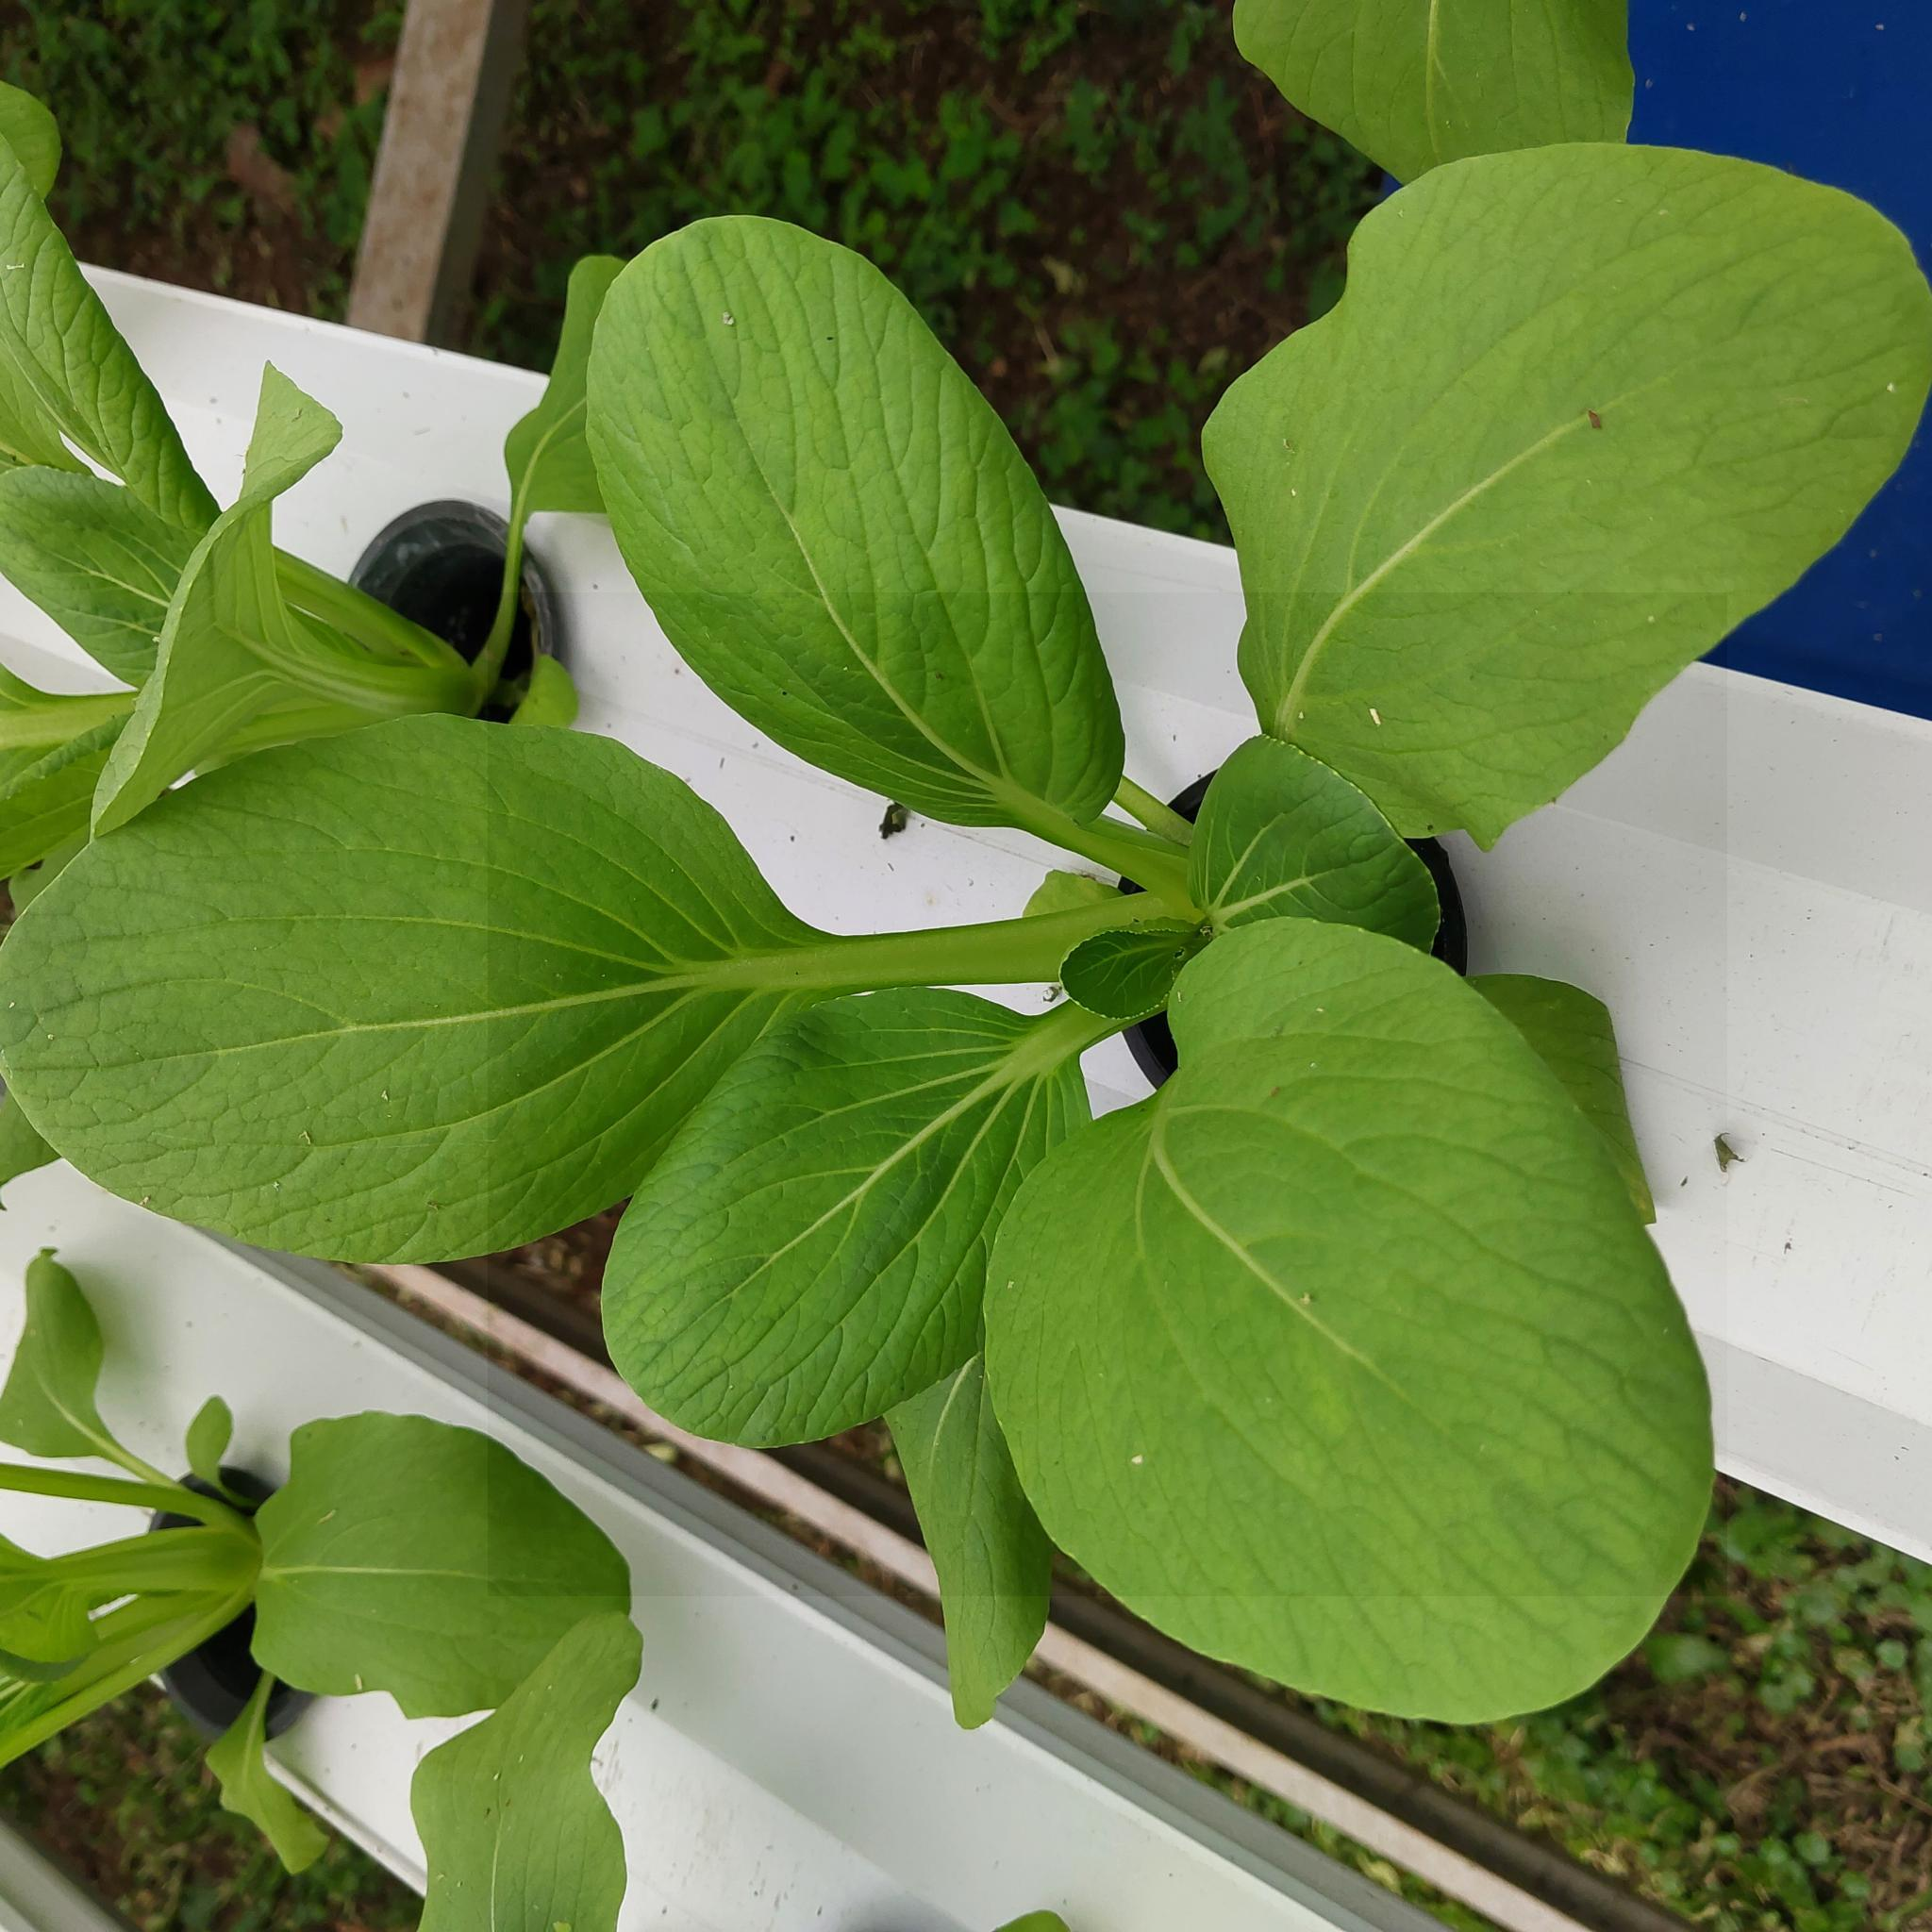Healthy-Pechay: (453, 890, 1134, 1674), (0, 656, 837, 1290), (540, 232, 1166, 899)
